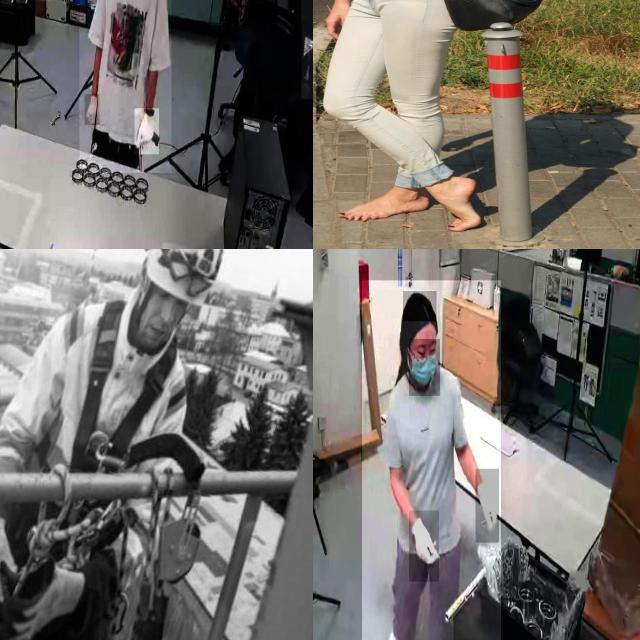Barefoots: (337, 193, 430, 221), (447, 176, 482, 232)
Harness: (71, 301, 206, 490)
face_mask: (409, 339, 440, 396)
hand_glove: (409, 510, 439, 582), (476, 469, 500, 543), (134, 108, 160, 155), (84, 94, 100, 126)
hand_noglove: (235, 5, 247, 27)
head_nohelmet: (403, 291, 437, 322)
person: (362, 280, 501, 640), (79, 0, 172, 173), (228, 0, 277, 23)
shoes: (385, 621, 408, 640)
